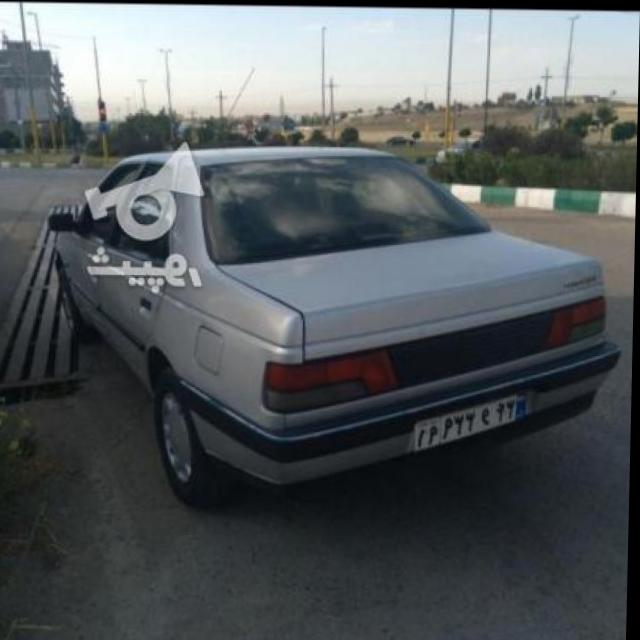licence: (413, 386, 531, 457)
